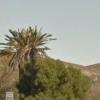Palm tree: (5, 17, 54, 90)
